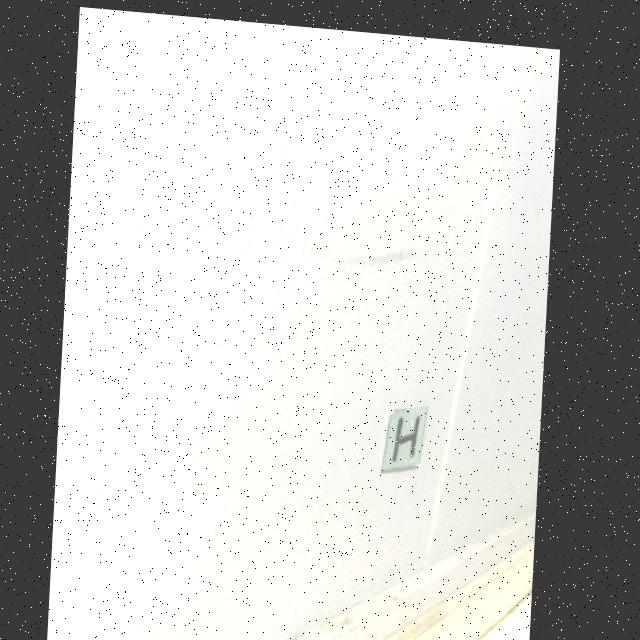H: (398, 408, 424, 453)
